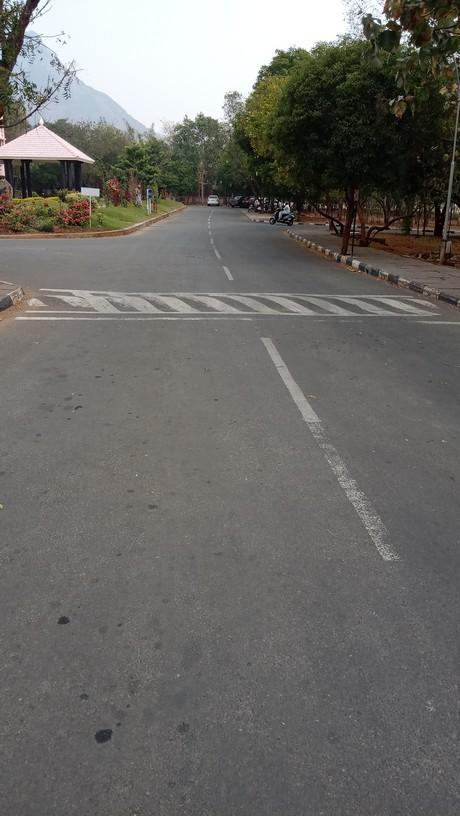speed-bump: (21, 289, 458, 324)
